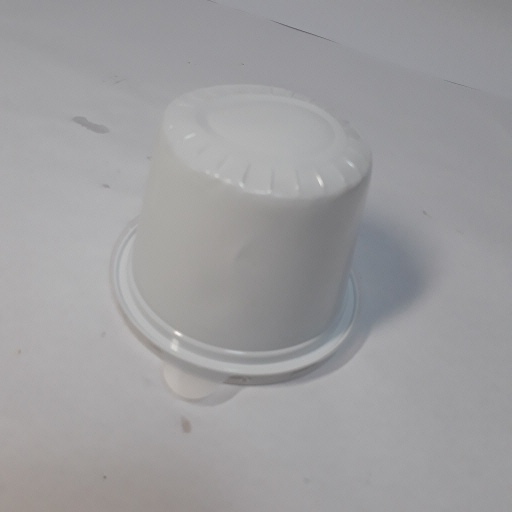Plastic_5: (113, 84, 374, 406)
